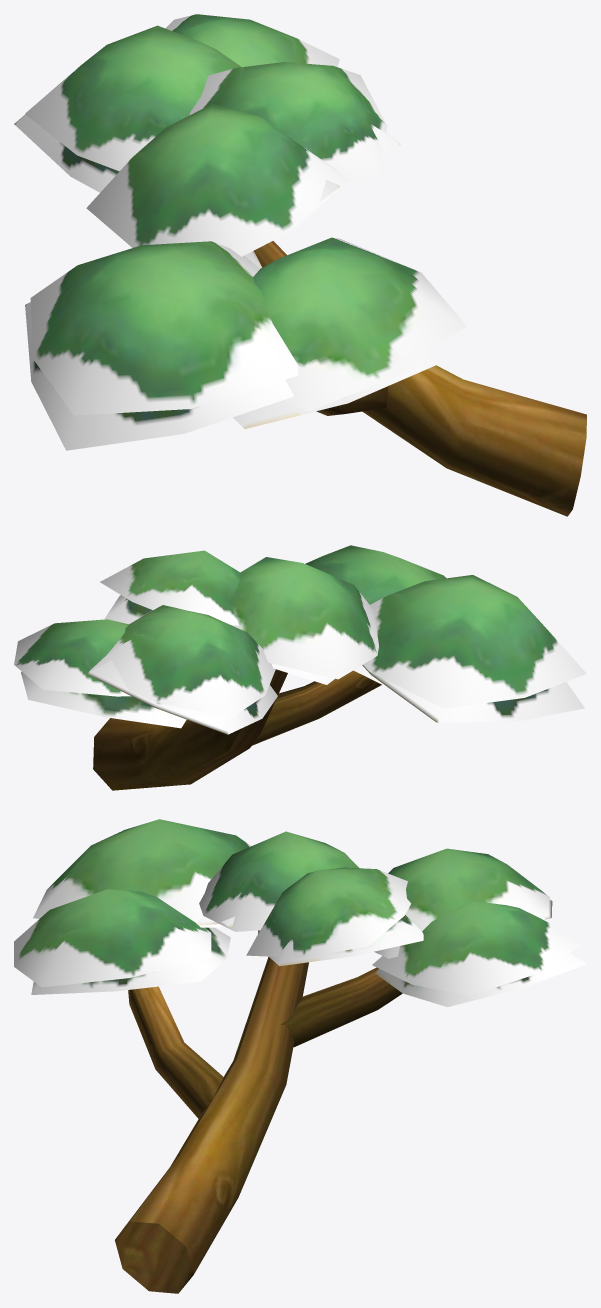
The model's file is gonghui_shu_01 (10).fbx.
3 views of the same model, one above another, from view 1: azimuth 30°, elevation 25°; view 2: azimuth 150°, elevation 25°; view 3: azimuth 270°, elevation 25° (orthographic). The views are drawn at different scales.
Visible parts, largest first — view 1: gonghui_shu_01 (10), Cylinder049; view 2: gonghui_shu_01 (10), Cylinder049; view 3: gonghui_shu_01 (10), Cylinder049.
Boxes of the visible parts, x1=… form: gonghui_shu_01 (10): x1=14, y1=14, x2=466, y2=450; Cylinder049: x1=254, y1=241, x2=586, y2=516; gonghui_shu_01 (10): x1=14, y1=545, x2=586, y2=734; Cylinder049: x1=93, y1=669, x2=381, y2=790; gonghui_shu_01 (10): x1=14, y1=819, x2=586, y2=1007; Cylinder049: x1=115, y1=957, x2=402, y2=1293.
Size of the model in its own units: 2.56 by 1.79 by 2.67.
